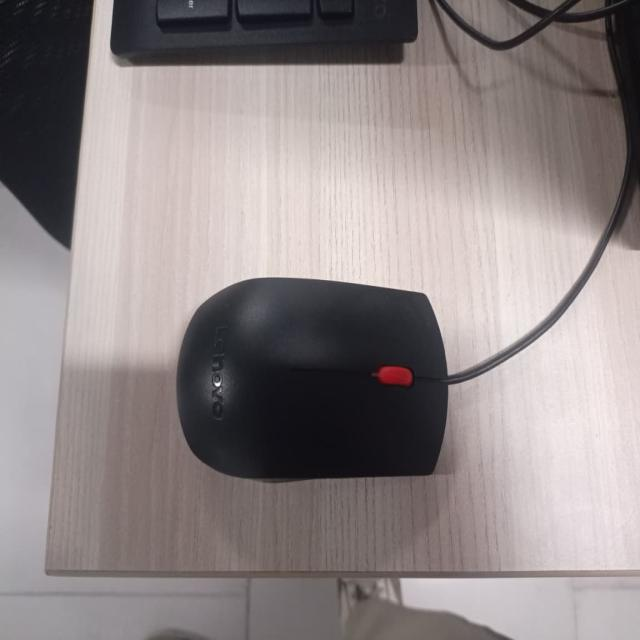mouse: (160, 258, 464, 494)
